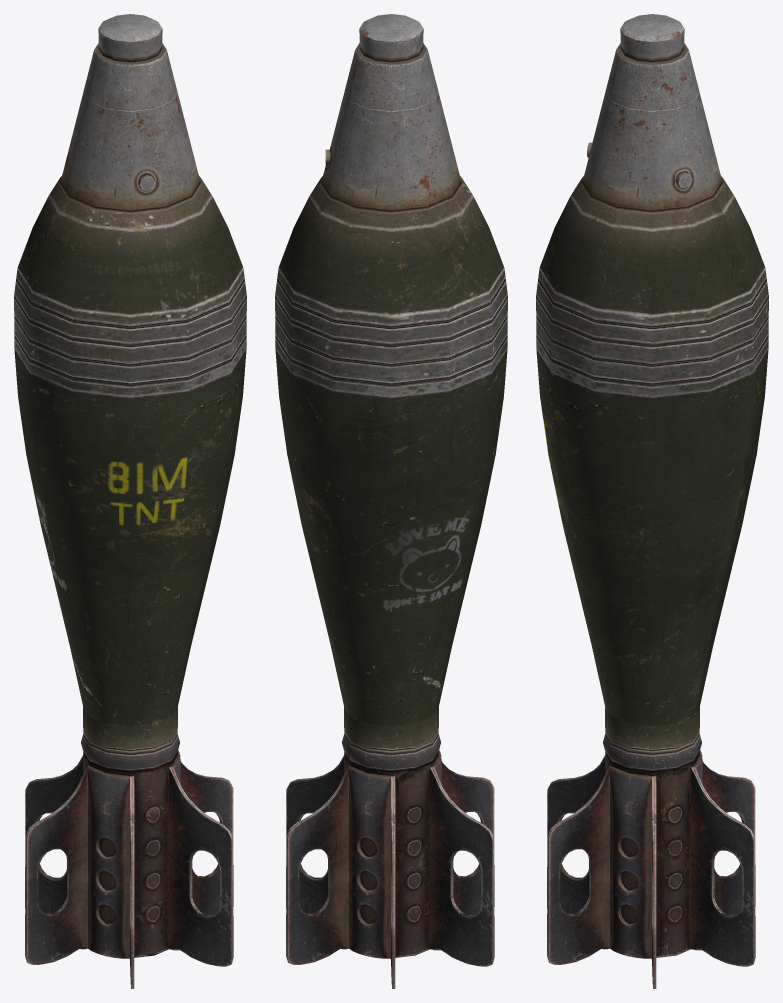
The model's file is Mortarseparated.glb.
The picture shows the model from 3 angles, left to right: view 1: azimuth 30°, elevation 25°; view 2: azimuth 150°, elevation 25°; view 3: azimuth 270°, elevation 25°; orthographic projection.
Parts seen in each view (by area): view 1: body, fin, fuse; view 2: body, fin, fuse; view 3: body, fin, fuse.
Boxes of the visible parts, <box> form: body: <box>14,176,246,770</box>; fin: <box>25,750,233,988</box>; fuse: <box>61,14,199,210</box>; body: <box>275,176,507,770</box>; fin: <box>286,750,494,988</box>; fuse: <box>322,14,460,210</box>; body: <box>536,176,768,770</box>; fin: <box>547,750,755,988</box>; fuse: <box>583,14,721,210</box>.
Bounding box in the file's own units: 9.84 × 41.71 × 9.59.
Materials: 1 (1 with a texture image).
